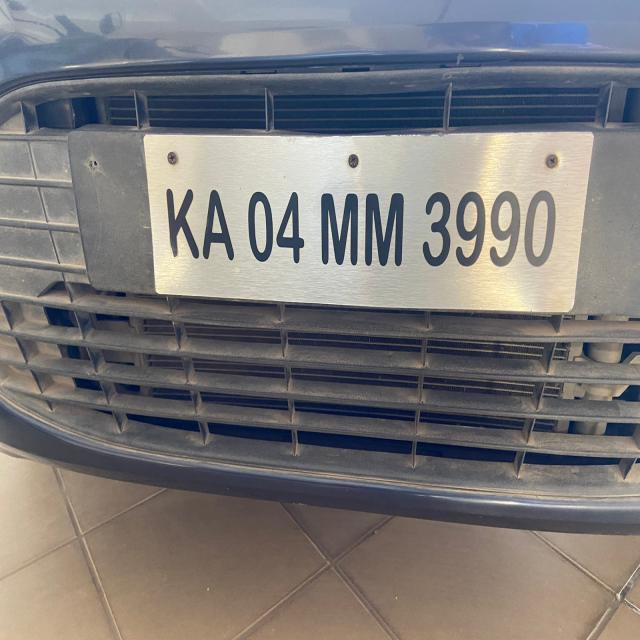0: (522, 180, 561, 265), (242, 184, 278, 270)
3: (415, 185, 452, 268)
4: (275, 186, 312, 273)
9: (488, 182, 523, 272), (454, 186, 489, 266)
A: (198, 179, 241, 265)
K: (162, 180, 200, 265)
M: (315, 183, 362, 269), (362, 183, 409, 267)
